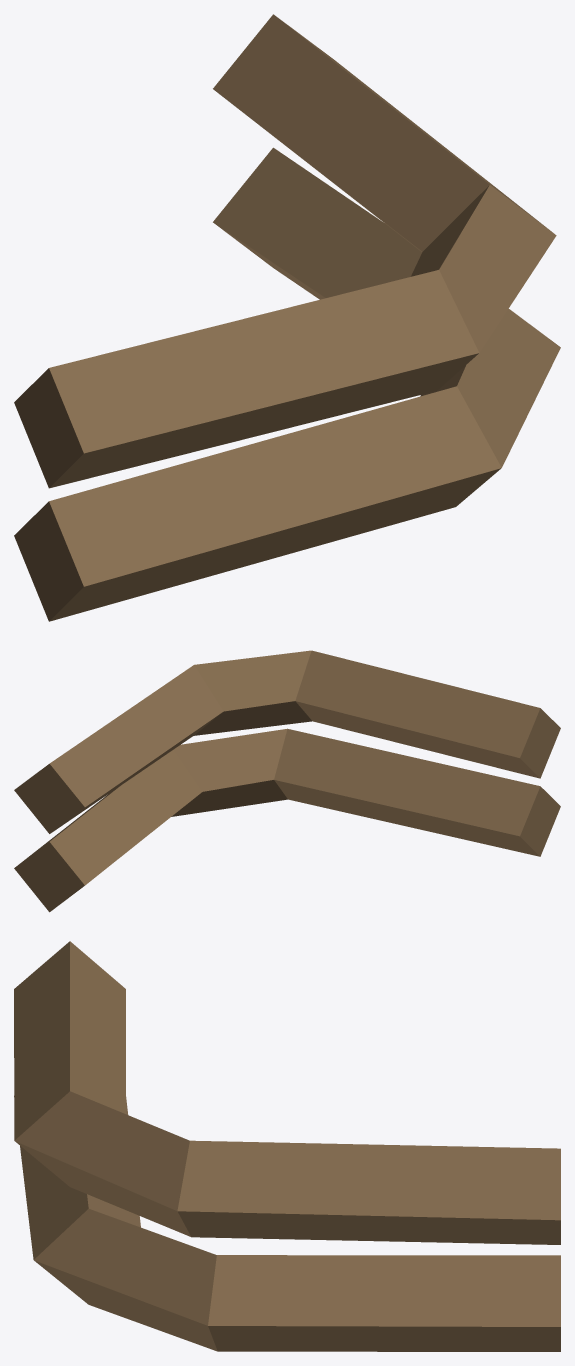
File: SM_Prop_Wires_Corner_02.fbx
3 views of the same model, one above another, from view 1: azimuth 30°, elevation 25°; view 2: azimuth 150°, elevation 25°; view 3: azimuth 270°, elevation 25° (orthographic). The views are drawn at different scales.
Visible parts, largest first — view 1: SM_Prop_Wires_Corner_02; view 2: SM_Prop_Wires_Corner_02; view 3: SM_Prop_Wires_Corner_02.
Part boxes in pixels (x1,y1,x2,y2): SM_Prop_Wires_Corner_02: [14, 14, 560, 621]; SM_Prop_Wires_Corner_02: [14, 650, 560, 912]; SM_Prop_Wires_Corner_02: [14, 941, 560, 1351].
Size of the model in its own units: 14.09 by 5.78 by 13.93.
